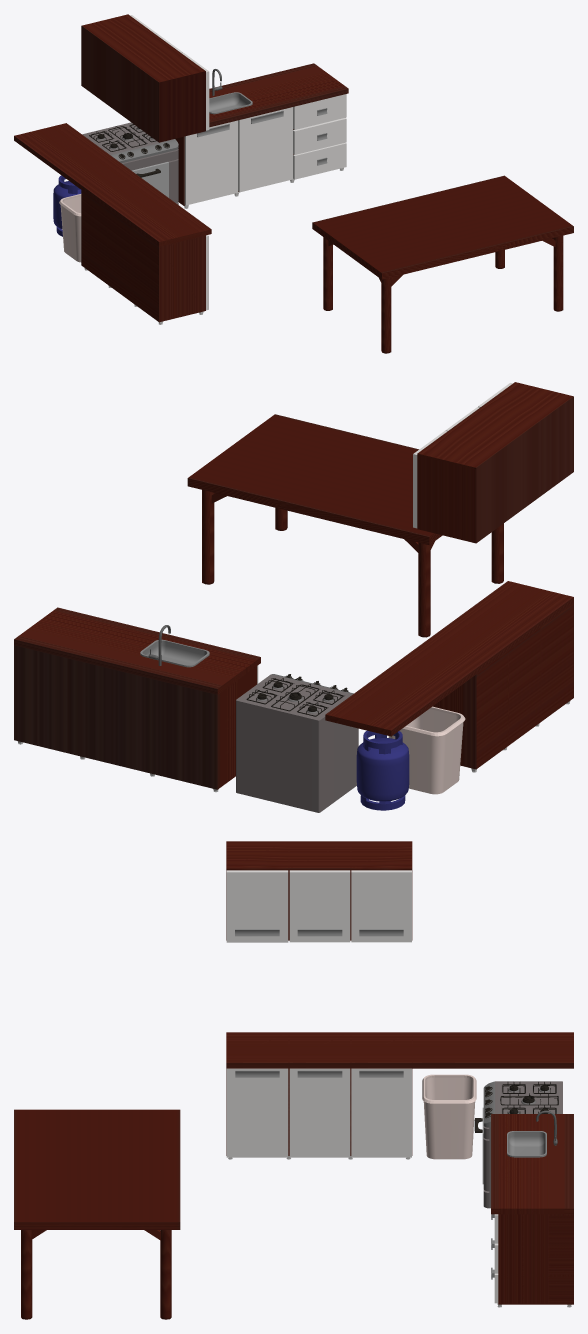
File: kitchen.glb
3 views of the same model, one above another, from view 1: azimuth 30°, elevation 25°; view 2: azimuth 150°, elevation 25°; view 3: azimuth 270°, elevation 25° (orthographic). The views are drawn at different scales.
Visible parts, largest first — view 1: bancada, forma_mesa, armario, bancada_pia, bancada_pia_porta2, bancada_pia_porta1, fogao, bancada_pia_handle9, bancada_pia_handle10, bancada_pia_handle6, lixeira, janela_fogao (+2 smaller); view 2: bancada_pia, bancada, forma_mesa, armario, fogao, lixeira, butijao_gas, forma_pia; view 3: forma_mesa, bancada_pia, bancada, armario, bancada_porta1, bancada_porta2, bancada_porta3, armario_handle4, armario_handle5, armario_handle6, lixeira, fogao (+1 smaller).
Part boxes in pixels (x1,y1,x2,y2): bancada: [14, 123, 211, 322]; forma_mesa: [312, 175, 573, 353]; armario: [81, 14, 205, 142]; bancada_pia: [175, 63, 348, 205]; bancada_pia_porta2: [238, 107, 292, 192]; bancada_pia_porta1: [184, 120, 237, 205]; fogao: [82, 122, 178, 204]; bancada_pia_handle9: [293, 118, 346, 154]; bancada_pia_handle10: [293, 142, 346, 179]; bancada_pia_handle6: [293, 94, 346, 129]; lixeira: [59, 194, 81, 262]; janela_fogao: [132, 162, 168, 197]; bancada_pia: [14, 607, 260, 789]; bancada: [325, 581, 573, 769]; forma_mesa: [187, 414, 503, 637]; armario: [417, 382, 573, 543]; fogao: [236, 674, 358, 812]; lixeira: [388, 706, 465, 794]; butijao_gas: [356, 730, 409, 810]; forma_pia: [140, 639, 209, 667]; forma_mesa: [14, 1109, 180, 1319]; bancada_pia: [491, 1114, 573, 1304]; bancada: [226, 1032, 573, 1155]; armario: [226, 841, 412, 940]; bancada_porta1: [226, 1068, 288, 1157]; bancada_porta2: [289, 1068, 350, 1157]; bancada_porta3: [351, 1068, 411, 1157]; armario_handle4: [226, 870, 288, 942]; armario_handle5: [289, 870, 350, 942]; armario_handle6: [351, 870, 411, 942]; lixeira: [422, 1074, 476, 1159]; fogao: [483, 1081, 562, 1208].
Size of the model in its own units: 0.1838 by 0.1311 by 0.228.
Materials: 19 (4 with a texture image).
